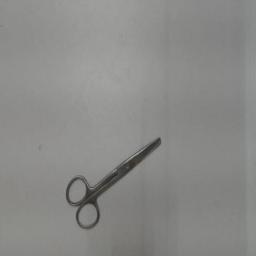Dressing Scissors: (59, 130, 169, 236)
